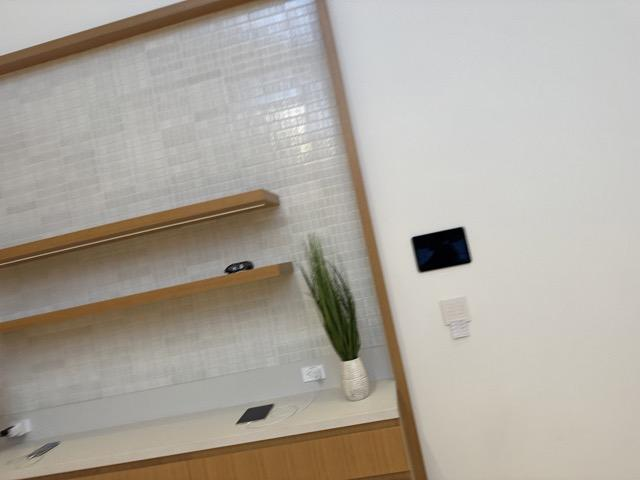Sunglasses: (222, 261, 255, 275)
